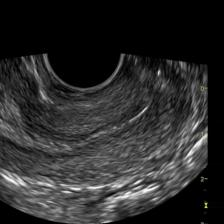no-pcos: (0, 86, 196, 216)
